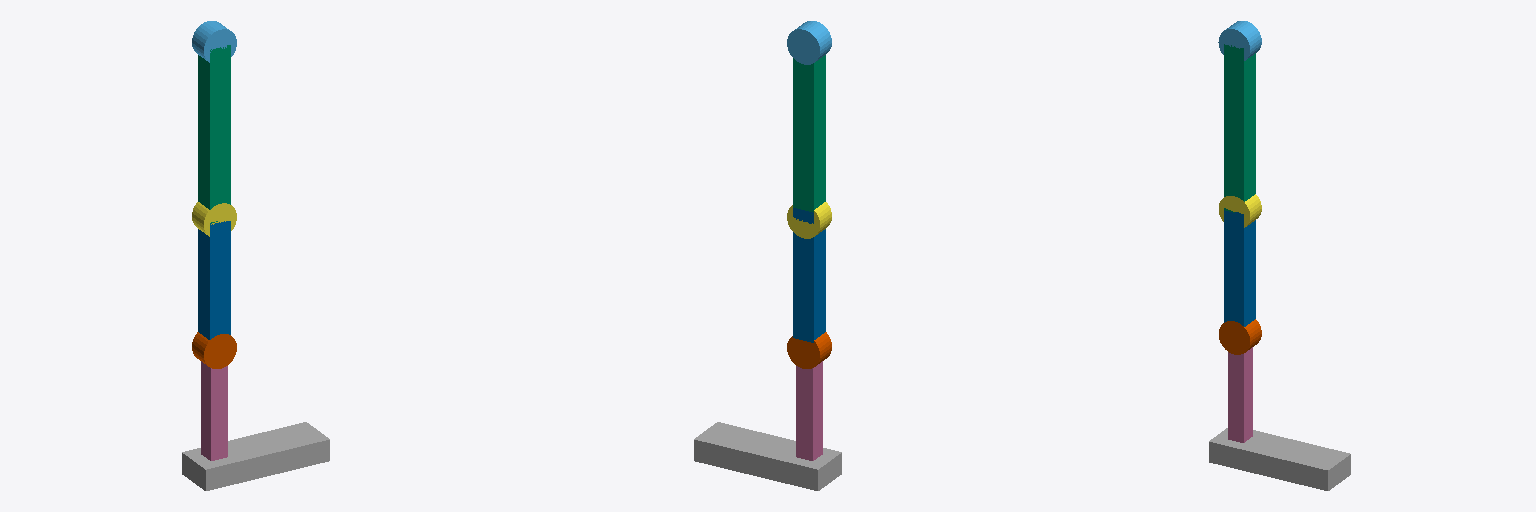
The robot description file, URDF, robot "physics":
<?xml version="1.0"?>

<robot name="physics">

    <link name="ground"/>

    <link name="upper_motor">
        <visual>
            <geometry>
                <cylinder length="0.05" radius="0.04"/>
            </geometry>
            <origin rpy="1.5708 0 0"/>
        </visual>
    </link>

    <joint name="ground_upper_motor" type="revolute">
        <parent link="ground"/>
        <child link="upper_motor"/>
        <origin xyz="0 0 1"/>
        <axis xyz="1 0 0"/>
        <limit effort="0" lower="0" upper="0.3926" velocity="0"/>
    </joint>

    <link name="upper_leg">
        <visual>
            <geometry>
                <box size="0.4 0.05 0.05"/>
            </geometry>
            <origin xyz="0 0 -0.2" rpy="0 1.5708 0"/>
        </visual>
    </link>

    <joint name="upper_motor_leg_joint" type="fixed">
        <parent link="upper_motor"/>
        <child link="upper_leg"/>
    </joint>

    <link name="middle_motor">
        <visual>
            <geometry>
                <cylinder length="0.05" radius="0.04"/>
            </geometry>
            <origin xyz="0 0 0" rpy="1.5708 0 0"/>
        </visual>
    </link>

    <joint name="upper_leg_middle_motor_joint" type="revolute">
        <parent link="upper_leg"/>
        <child link="middle_motor"/>
        <origin xyz="0 0 -0.4"/>
        <axis xyz="0 -1 0"/>
        <limit effort="0" lower="-0.3926" upper="0.3926" velocity="0"/>
    </joint>


    <link name="middle_leg">
        <visual>
            <geometry>
                <box size="0.3 0.05 0.05"/>
            </geometry>
            <origin xyz="0 0 -0.125" rpy="0 1.5708 0"/>
        </visual>
    </link>

    <joint name="middle_motor_leg_joint" type="fixed">
        <parent link="middle_motor"/>
        <child link="middle_leg"/>
    </joint>

    <link name="lower_motor">
        <visual>
            <geometry>
                <cylinder length="0.05" radius="0.04"/>
            </geometry>
            <origin xyz="0 0 0" rpy="1.5708 0 0"/>
        </visual>
    </link>

    <joint name="middle_leg_lower_motor_joint" type="revolute">
        <parent link="middle_leg"/>
        <child link="lower_motor"/>
        <origin xyz="0 0 -0.3"/>
        <axis xyz="0 -1 0"/>
        <limit effort="0" lower="-0.5235" upper="0.5235" velocity="0"/>
    </joint>


    <link name="lower_leg">
        <visual>
            <geometry>
                <box size="0.25 0.04 0.04"/>
            </geometry>
            <origin xyz= "0 0 -0.125" rpy="0 1.5708 0"/>
        </visual>
    </link>

    <joint name="lower_motor_leg_joint" type="fixed">
        <parent link="lower_motor"/>
        <child link="lower_leg"/>
    </joint>



    <!-- <deformable name="feet">

        <inertial>
            <mass value="1" />
            <inertia ixx="0.0" ixy="0" ixz="0" iyy="0" iyz="0" izz="0" />
        </inertial>
        <visual filename="mysphere.vtk"/>
        <visual>
            <geometry>
                <sphere radius="0.06"/>
            </geometry>
            <origin xyz="0 0 -0.25"/>
        </visual>

        <collision>
            <geometry>
                <sphere radius="0.06"/>
            </geometry>
            <origin xyz="0 0 -0.25"/>
            <max_contacts>10</max_contacts>
        </collision>
        <collision_margin value="0.006"/>
        <repulsion_stiffness value="800.0"/>
        <friction value= "0.5"/>
        <neohookean mu= "60" lambda= "200" damping= "0.01" />
    </deformable> -->

    <link name="feet">
        <visual>
            <geometry>
                <box size="0.3 0.1 0.05"/>
            </geometry>  
            <origin xyz="0.1 0 -0.275" />  
        </visual>
        <!-- <collision>
            <geometry>
                <box size="0.3 0.1 0.025"/>   
            </geometry>
            <origin xyz="0.1 0 -0.3" />  
        </collision> -->
    </link>

    <joint name="lower_leg_feet_joint" type="fixed">
        <parent link="lower_leg"/>
        <child link="feet"/>
    </joint>


</robot>

--- Facts derived from the render (not from the file) ---
3 views of the same robot in one strip: view 1: azimuth 30°, elevation 25°; view 2: azimuth 150°, elevation 25°; view 3: azimuth 330°, elevation 25° (orthographic).
Model physics with 8 links and 7 joints (3 revolute, 4 fixed), rooted at ground, posed every joint at zero.
Visible links, largest first — view 1: feet, upper_leg, middle_leg, lower_leg, lower_motor, upper_motor, middle_motor; view 2: feet, upper_leg, middle_leg, lower_leg, upper_motor, lower_motor, middle_motor; view 3: feet, upper_leg, middle_leg, lower_leg, lower_motor, upper_motor, middle_motor.
Link boxes in pixels (<box>): feet: <box>182,422,329,490</box>; upper_leg: <box>198,45,230,223</box>; middle_leg: <box>198,221,230,339</box>; lower_leg: <box>201,361,227,460</box>; lower_motor: <box>192,332,236,368</box>; upper_motor: <box>192,21,236,62</box>; middle_motor: <box>192,202,236,236</box>; feet: <box>694,422,841,490</box>; upper_leg: <box>793,55,825,214</box>; middle_leg: <box>793,208,825,342</box>; lower_leg: <box>796,361,822,460</box>; upper_motor: <box>787,21,831,64</box>; lower_motor: <box>787,332,831,368</box>; middle_motor: <box>787,202,831,238</box>; feet: <box>1209,428,1350,490</box>; upper_leg: <box>1224,44,1255,212</box>; middle_leg: <box>1224,210,1255,326</box>; lower_leg: <box>1228,347,1252,442</box>; lower_motor: <box>1219,319,1261,354</box>; upper_motor: <box>1218,21,1261,60</box>; middle_motor: <box>1219,194,1261,227</box>.
Size in the robot's own frame: 0.3 by 0.1 by 1.04 metres.
Geometry: primitives only (box / cylinder / sphere), no mesh files.